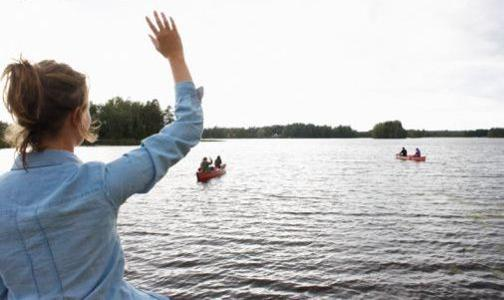person: (1, 11, 204, 300)
